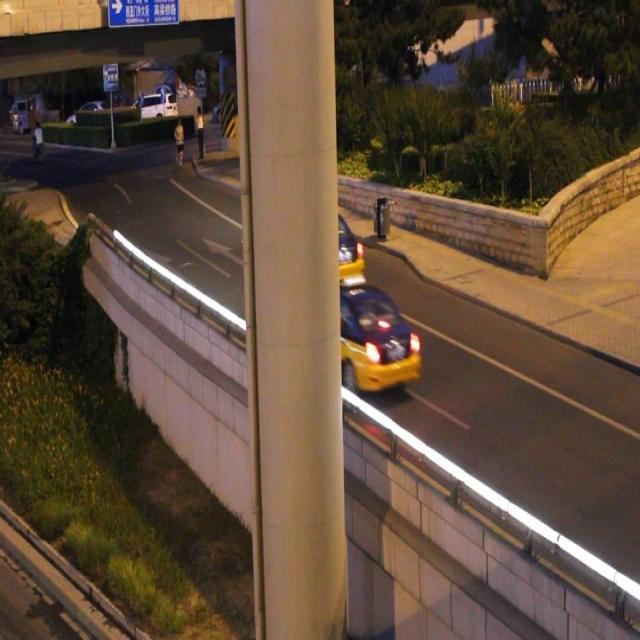car: (291, 288, 419, 392), (266, 209, 363, 286)
